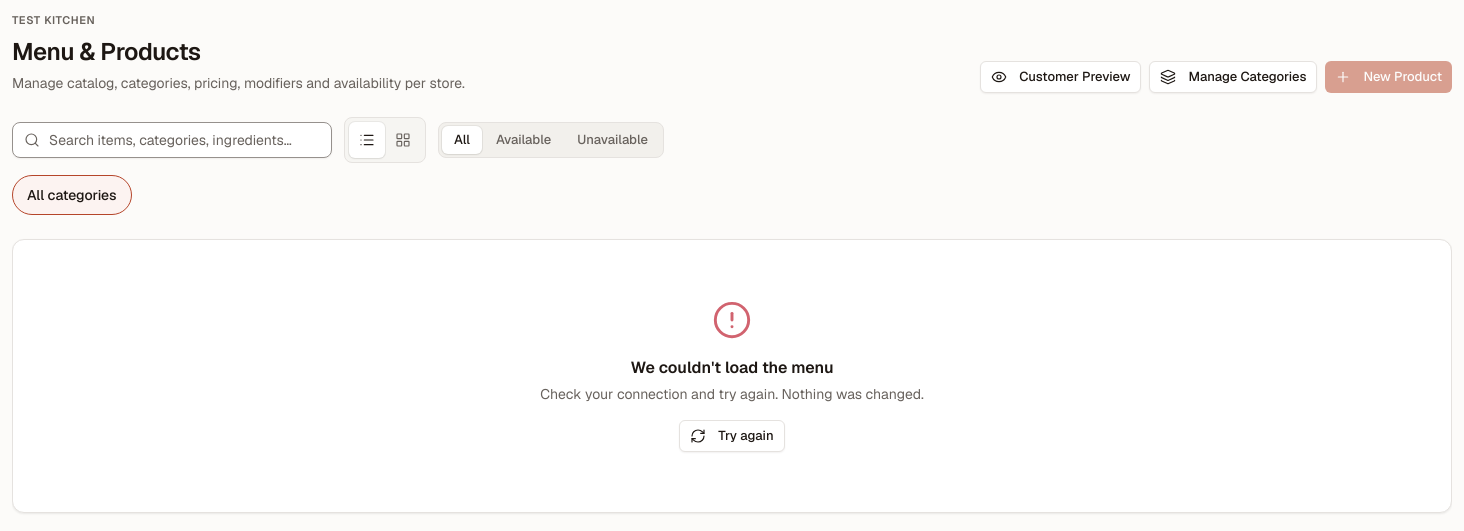
Scenario: loading and error states › shows a load error with a retry that reloads
Expected: the heading "We couldn't load the menu" is shown, 630,356 -> 834,378
Click the button "Try again" at point(732, 436), box 679,420 -> 785,452
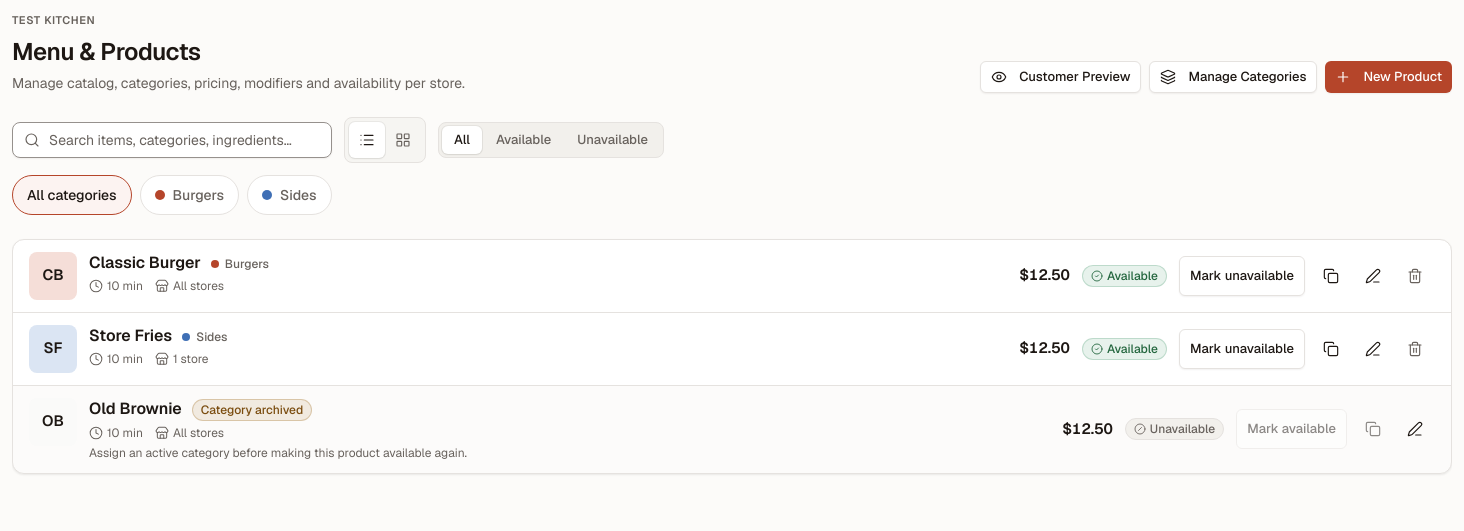
Result: the heading "Classic Burger" is shown at 89,252 -> 201,274
